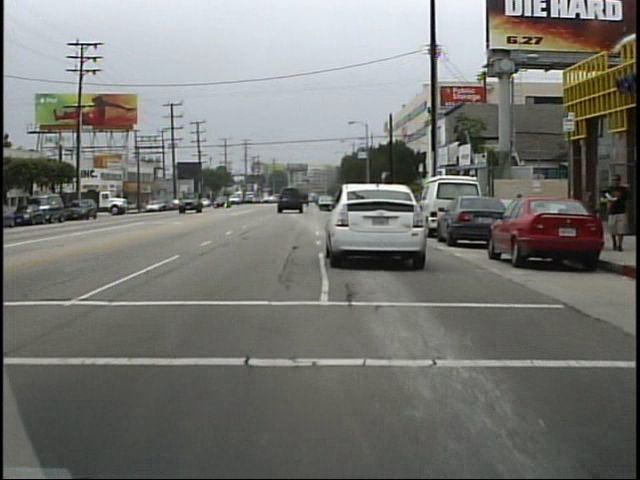person: (597, 169, 629, 257)
